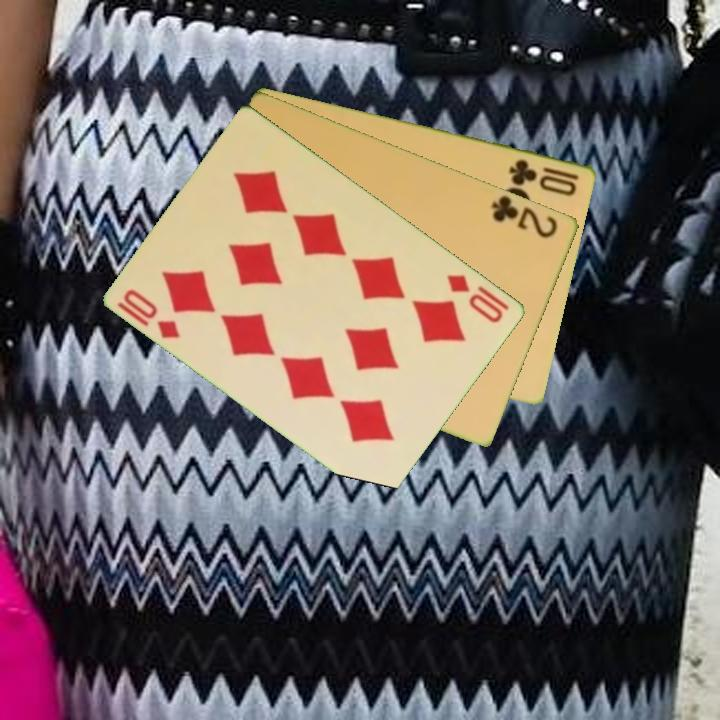10c: (506, 155, 583, 199)
10d: (114, 285, 184, 342), (443, 270, 507, 326)
2c: (488, 192, 561, 241)
